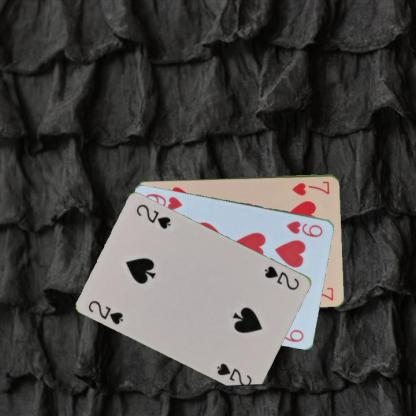2s: (262, 262, 301, 292), (85, 297, 125, 326)
7h: (290, 178, 331, 196)
9h: (284, 218, 324, 238)
